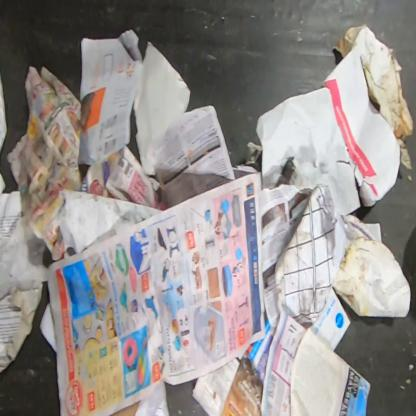cardboard: (333, 24, 414, 170), (108, 400, 142, 415)
